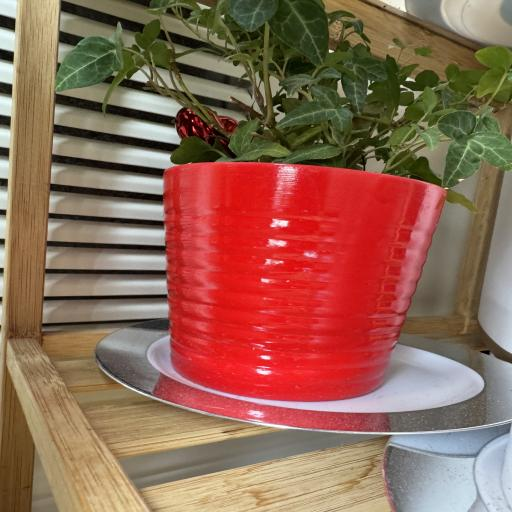Plant Pot: (158, 153, 443, 402)
